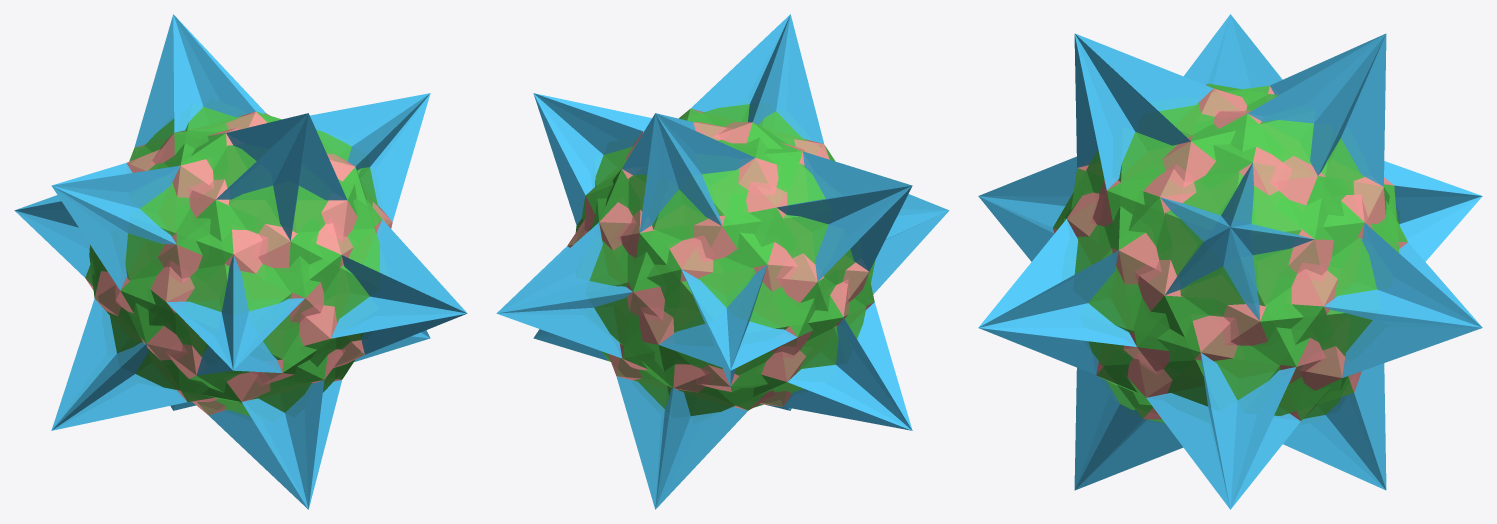
The model's file is 57_Dodekaugmented_Sic.obj.
3 renders of one model, left to right at view 1: azimuth 30°, elevation 25°; view 2: azimuth 150°, elevation 25°; view 3: azimuth 270°, elevation 25°, orthographic. The views are drawn at different scales.
Size of the model in its own units: 3.14 by 3.14 by 3.14.
